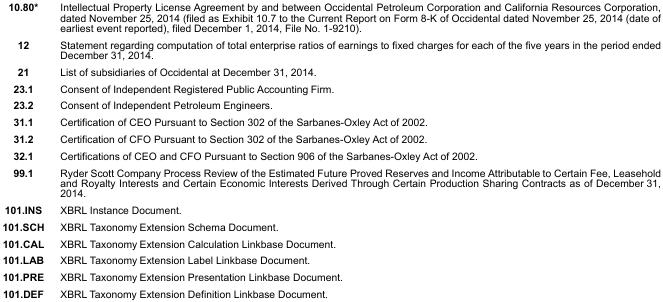table: (1, 0, 660, 299)
table column: (51, 0, 660, 299), (1, 0, 51, 299)
table row: (1, 163, 660, 201), (1, 0, 660, 35), (1, 35, 660, 62), (1, 62, 660, 79), (1, 79, 660, 96), (1, 96, 660, 113), (1, 113, 660, 130), (1, 146, 660, 163), (1, 217, 660, 234), (1, 234, 660, 251), (1, 251, 660, 268), (1, 268, 660, 285), (1, 130, 660, 146), (1, 201, 660, 217), (1, 285, 660, 299)
